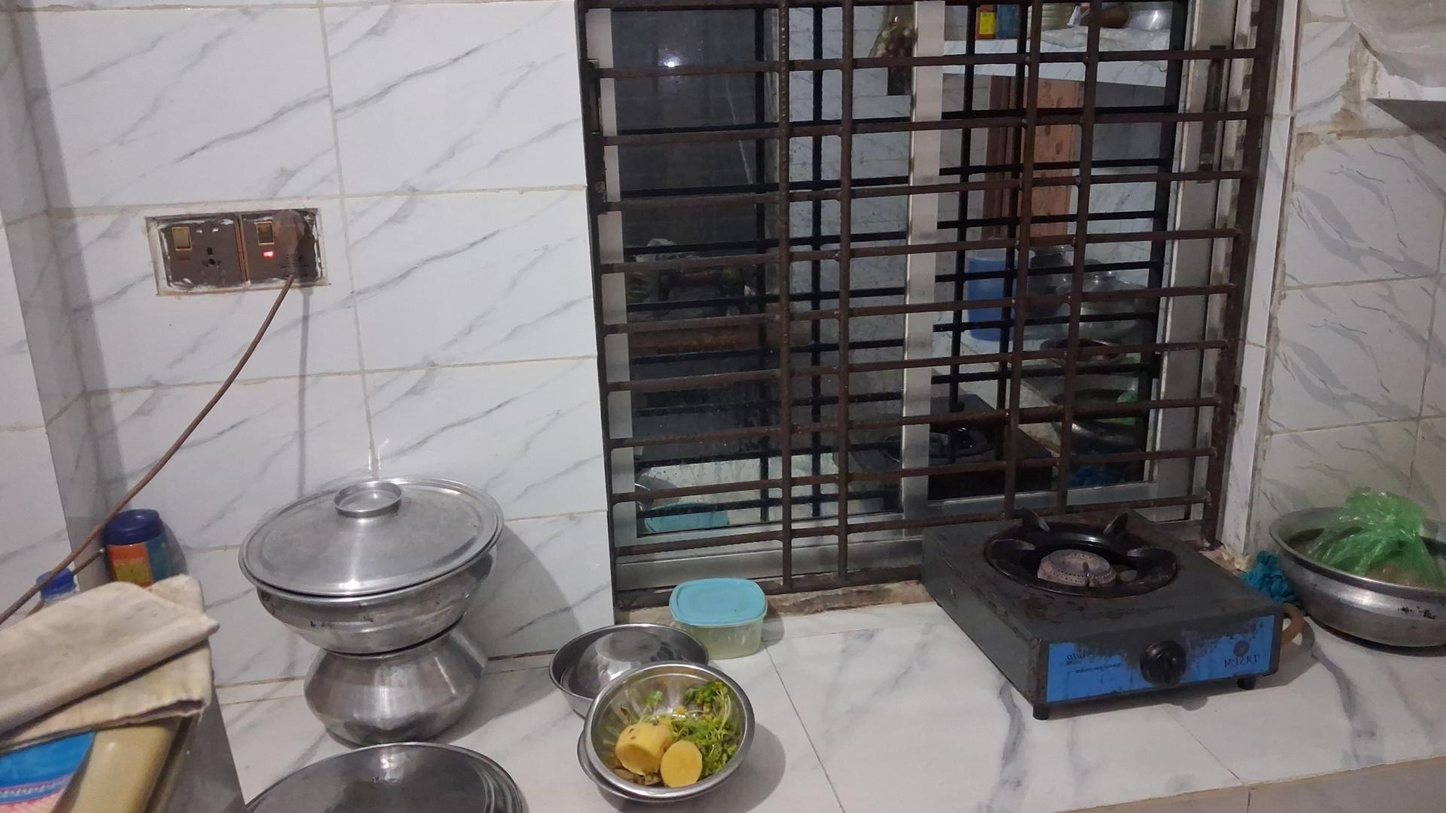Bowl: (579, 670, 754, 800), (544, 627, 704, 702)
Jar: (671, 580, 768, 656), (107, 518, 181, 587)
Pot: (237, 476, 502, 653), (1277, 502, 1446, 651), (300, 632, 489, 736)
